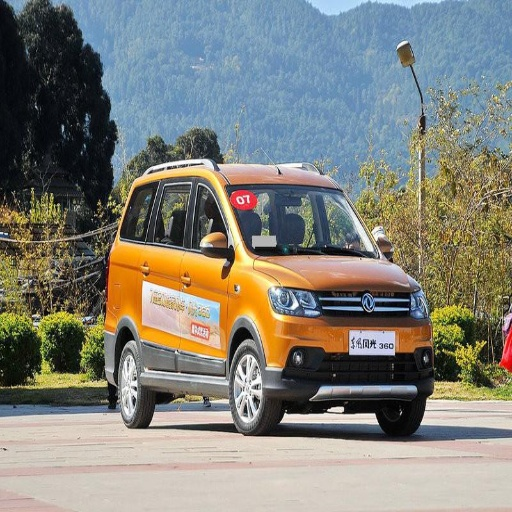front_bumper: (265, 290, 435, 400)
front_right_door: (177, 176, 234, 374)
front_right_light: (268, 284, 320, 318)
hood: (255, 255, 414, 291)
